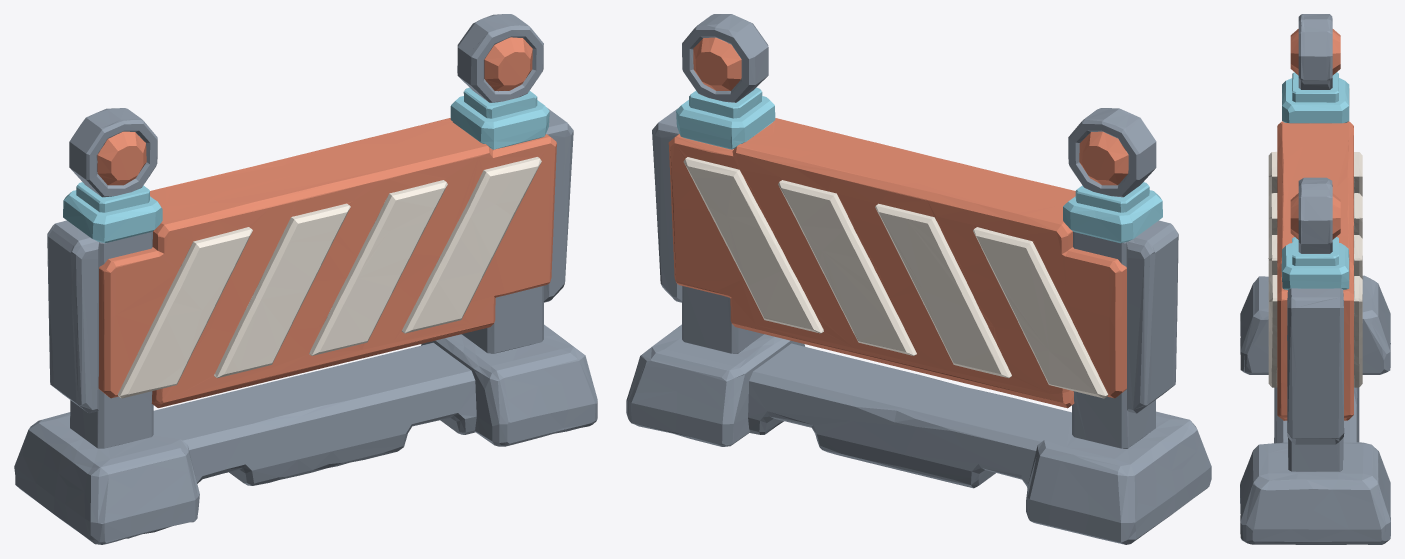
The model's file is motion-rush-lower-barrier.glb.
3 renders of one model, left to right at view 1: azimuth 30°, elevation 25°; view 2: azimuth 150°, elevation 25°; view 3: azimuth 270°, elevation 25°, orthographic. The views are drawn at different scales.
Parts seen in each view (by area): view 1: gray, red, cream, blue; view 2: gray, red, cream, blue; view 3: gray, red, blue, cream.
Boxes of the visible parts, bbox=[...] form: gray: bbox=[14, 14, 597, 544]; red: bbox=[97, 37, 556, 407]; cream: bbox=[117, 157, 541, 398]; blue: bbox=[63, 87, 549, 243]; gray: bbox=[626, 14, 1211, 544]; red: bbox=[668, 37, 1128, 408]; cream: bbox=[683, 157, 1108, 398]; blue: bbox=[676, 87, 1162, 243]; gray: bbox=[1240, 14, 1390, 544]; red: bbox=[1277, 29, 1353, 420]; blue: bbox=[1281, 72, 1349, 289]; cream: bbox=[1268, 151, 1362, 387].
Size of the model in its own units: 0.1 by 0.0733 by 0.0294.
